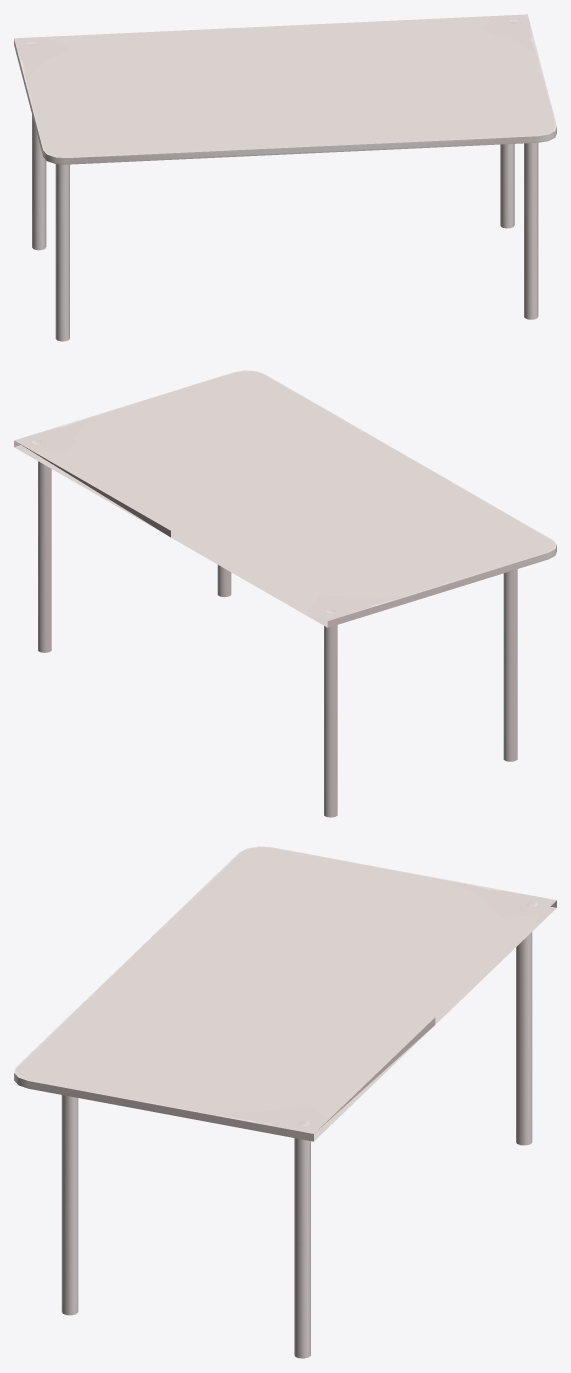
Rendered from whitedesk.glb.
The picture shows the model from 3 angles, top to bottom: view 1: azimuth 30°, elevation 25°; view 2: azimuth 150°, elevation 25°; view 3: azimuth 270°, elevation 25°; orthographic projection. The views are drawn at different scales.
Visible parts, largest first — view 1: Bedroom ComputerTable_ComputerTable.001_0_ComputerTable.001_ (×2); view 2: Bedroom ComputerTable_ComputerTable.001_0_ComputerTable.001_ (×2); view 3: Bedroom ComputerTable_ComputerTable.001_0_ComputerTable.001_ (×2).
Boxes of the visible parts, x1,y1,x2,y2 form: Bedroom ComputerTable_ComputerTable.001_0_ComputerTable.001_ (×2): (14, 14, 556, 341); Bedroom ComputerTable_ComputerTable.001_0_ComputerTable.001_ (×2): (14, 370, 556, 817); Bedroom ComputerTable_ComputerTable.001_0_ComputerTable.001_ (×2): (14, 846, 556, 1358).
Bounding box in the file's own units: 93.38 × 35.65 × 74.5.
1 material, 1 textured.
